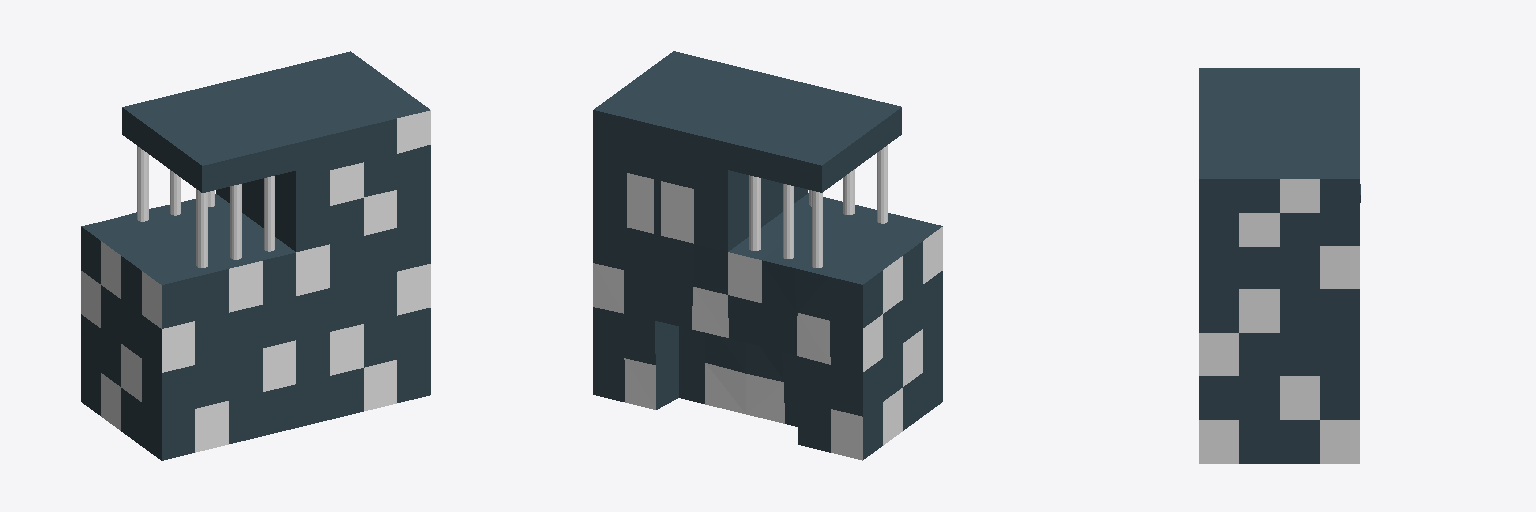
The picture shows the model from 3 angles: view 1: azimuth 30°, elevation 25°; view 2: azimuth 150°, elevation 25°; view 3: azimuth 270°, elevation 25°; orthographic projection.
Parts seen in each view (by area): view 1: group[number redacted], group[number redacted], group[number redacted], group[number redacted], group[number redacted]; view 2: group[number redacted], group[number redacted], group[number redacted], group[number redacted], group[number redacted]; view 3: group[number redacted].
Boxes of the visible parts, x1,y1,x2,y2 form: group[number redacted]: [81, 51, 430, 460]; group[number redacted]: [196, 189, 207, 267]; group[number redacted]: [230, 184, 241, 259]; group[number redacted]: [137, 146, 148, 221]; group[number redacted]: [264, 176, 274, 251]; group[number redacted]: [593, 51, 942, 460]; group[number redacted]: [749, 175, 760, 250]; group[number redacted]: [812, 191, 822, 267]; group[number redacted]: [877, 145, 887, 223]; group[number redacted]: [783, 184, 793, 258]; group[number redacted]: [1199, 68, 1360, 463].
Bounding box in the file's own units: 0.516 × 0.5214 × 0.2679.